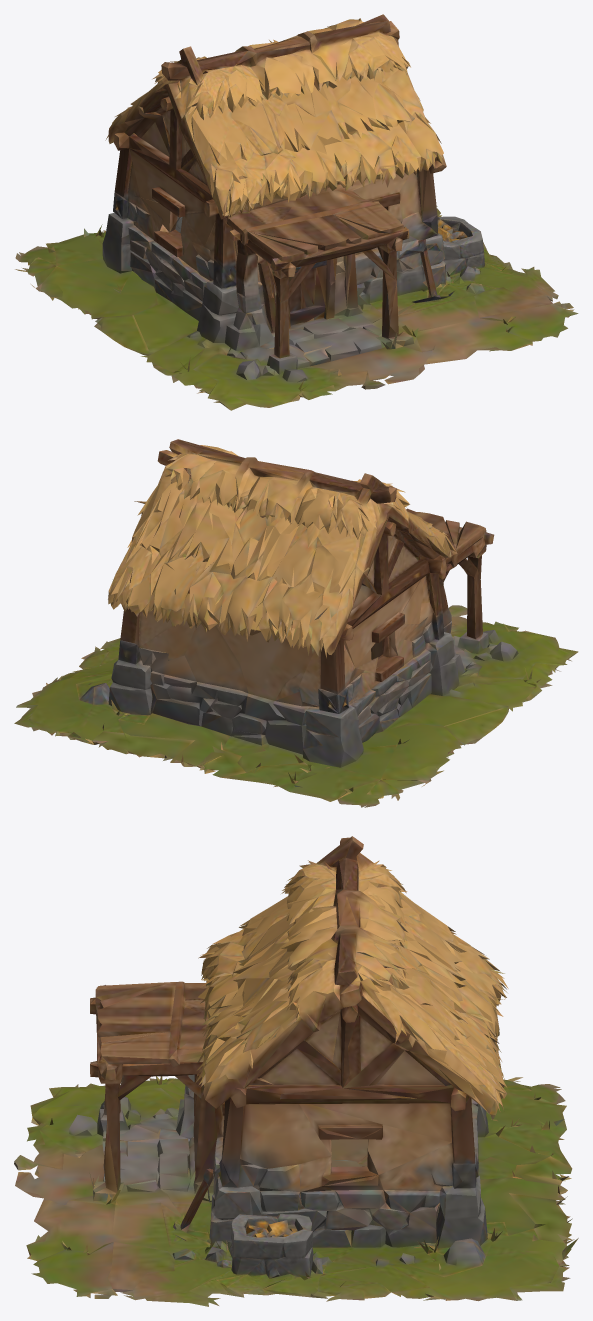
The model's file is minecamp.glb.
The picture shows the model from 3 angles, top to bottom: view 1: azimuth 30°, elevation 25°; view 2: azimuth 150°, elevation 25°; view 3: azimuth 270°, elevation 25°; orthographic projection. The views are drawn at different scales.
Size of the model in its own units: 1.83 by 1.1 by 1.88.
1 material, 1 textured.
